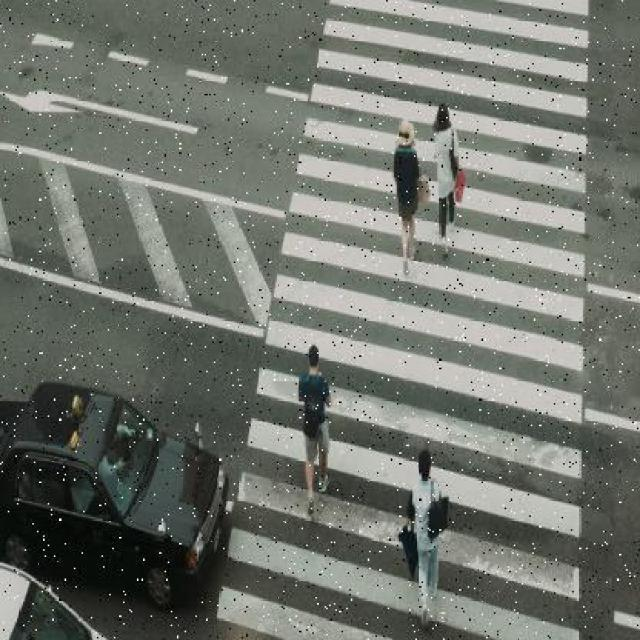Pedestrian crosswalk: (211, 0, 602, 638)
